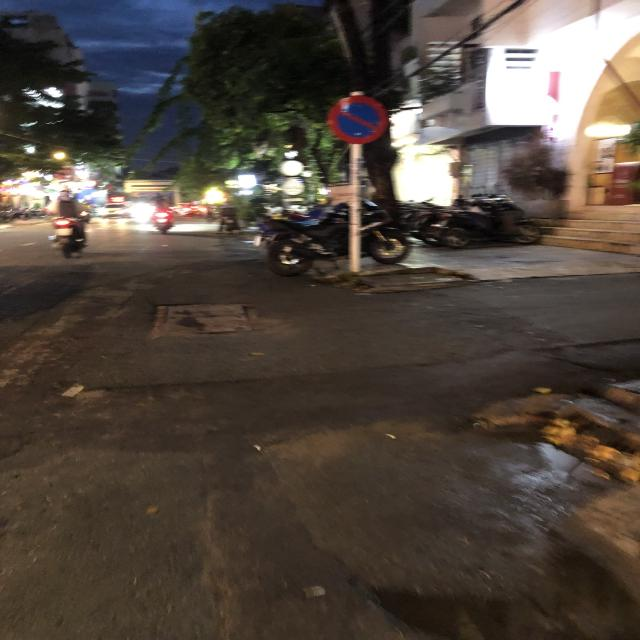Bien bao cam do xe: (324, 90, 397, 146)
